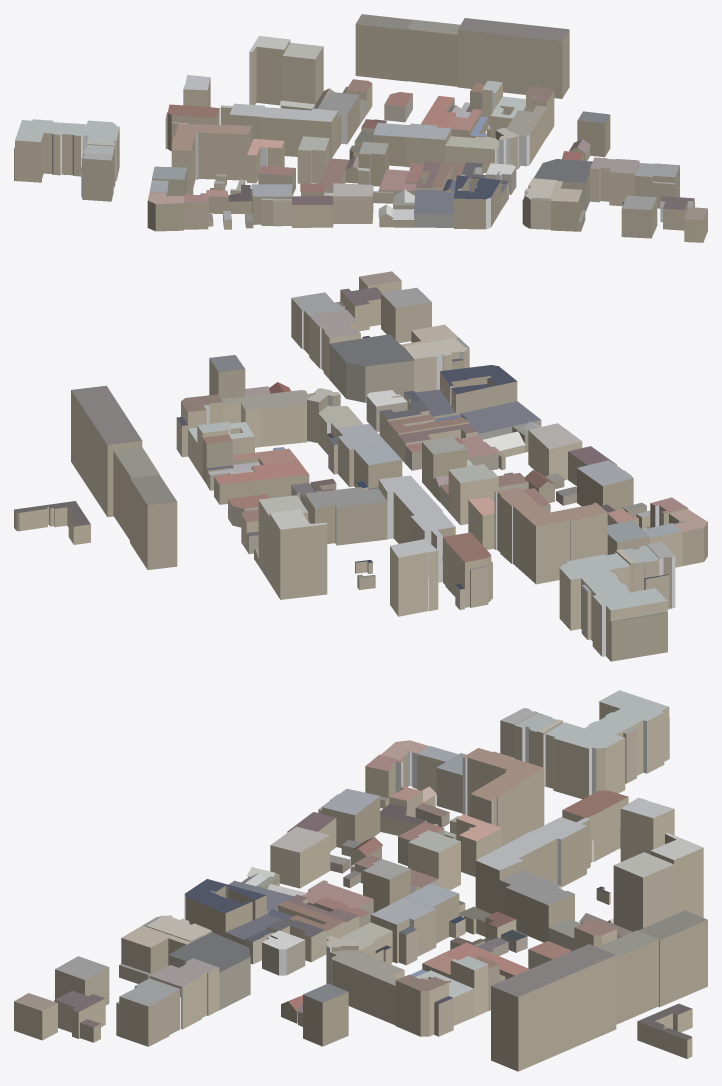
3 renders of one model, top to bottom at view 1: azimuth 30°, elevation 25°; view 2: azimuth 150°, elevation 25°; view 3: azimuth 270°, elevation 25°, orthographic. The views are drawn at different scales.
Visible parts, largest first — view 1: tuile; view 2: tuile; view 3: tuile.
Boxes of the visible parts, box(x1,y1,x2,y2) form: tuile: box(14, 14, 707, 242); tuile: box(14, 271, 707, 661); tuile: box(14, 690, 707, 1071).
Bounding box in the file's own units: 274 × 29.68 × 247.
